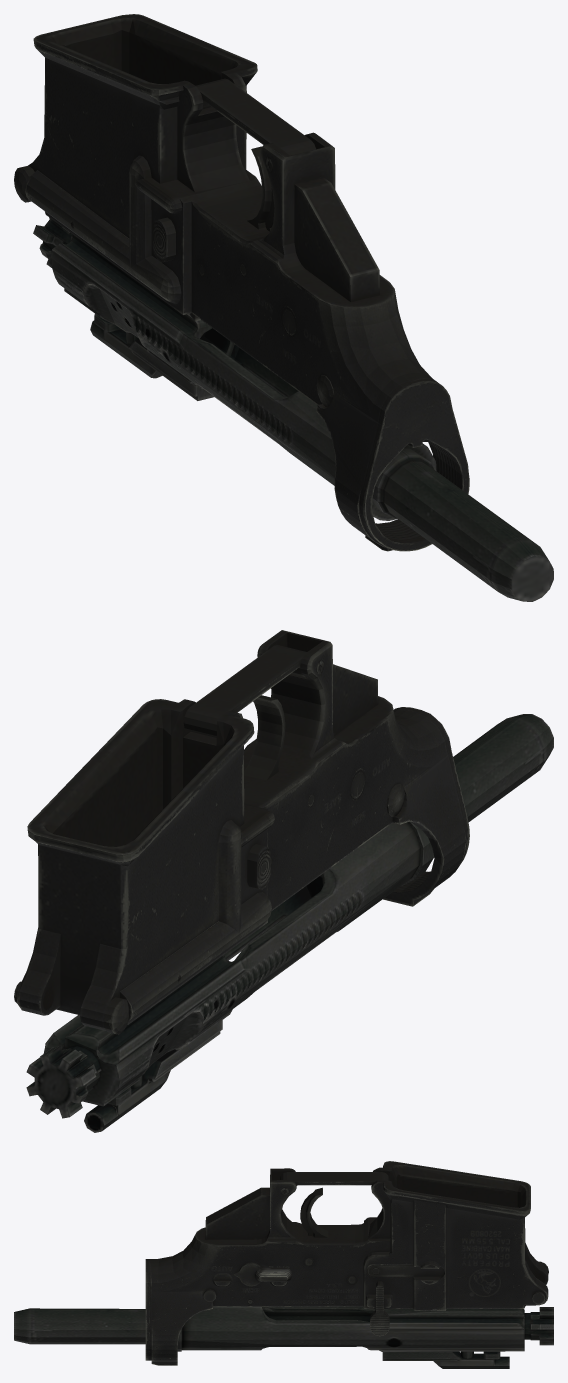
3 renders of one model, top to bottom at view 1: azimuth 30°, elevation 25°; view 2: azimuth 150°, elevation 25°; view 3: azimuth 270°, elevation 25°, orthographic. The views are drawn at different scales.
Visible parts, largest first — view 1: TW_5447a9cd4bdc2dbd208b4567_PZ_Import; view 2: TW_5447a9cd4bdc2dbd208b4567_PZ_Import; view 3: TW_5447a9cd4bdc2dbd208b4567_PZ_Import.
Boxes of the visible parts, box(x1,y1,x2,y2) form: TW_5447a9cd4bdc2dbd208b4567_PZ_Import: box(14, 14, 553, 601); TW_5447a9cd4bdc2dbd208b4567_PZ_Import: box(14, 630, 553, 1132); TW_5447a9cd4bdc2dbd208b4567_PZ_Import: box(14, 1161, 553, 1368).
Bounding box in the file's own units: 0.0216 × 0.1534 × 0.0606.
Materials: 1 (1 with a texture image).
